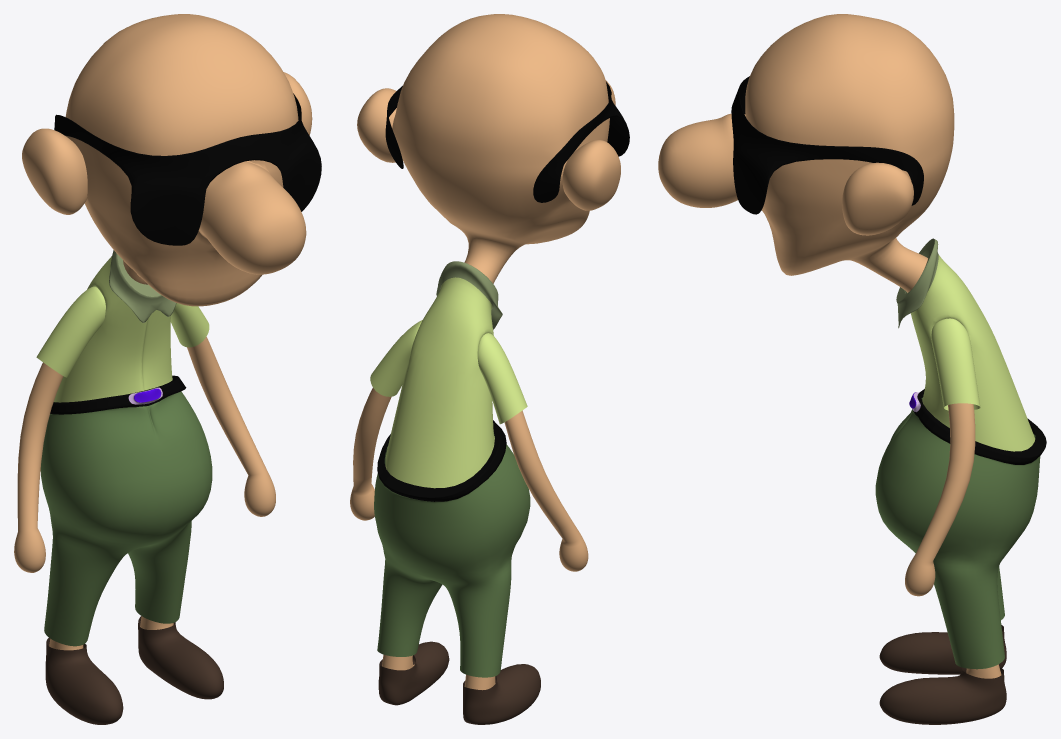
Rendered from OldMan.fbx.
3 views of the same model, side by side, from view 1: azimuth 30°, elevation 25°; view 2: azimuth 150°, elevation 25°; view 3: azimuth 270°, elevation 25° (orthographic). The views are drawn at different scales.
Visible parts, largest first — view 1: Body, Pant, Shirt, Glass, Shoes; view 2: Body, Pant, Shirt, Shoes, Glass; view 3: Body, Pant, Shirt, Shoes, Glass.
Part boxes in pixels (x1,y1,x2,y2): Body: (14, 14, 312, 650); Pant: (40, 375, 212, 646); Shirt: (36, 250, 209, 402); Glass: (54, 93, 321, 245); Shoes: (45, 616, 223, 724); Body: (350, 14, 620, 690); Pant: (374, 420, 530, 677); Shirt: (370, 261, 527, 488); Shoes: (378, 641, 540, 724); Glass: (385, 81, 629, 202); Body: (658, 14, 1001, 678); Pant: (875, 389, 1046, 669); Shirt: (896, 238, 1035, 451); Shoes: (879, 625, 1006, 724); Glass: (731, 76, 923, 214).
Size of the model in its own units: 67.12 by 169 by 88.5.
